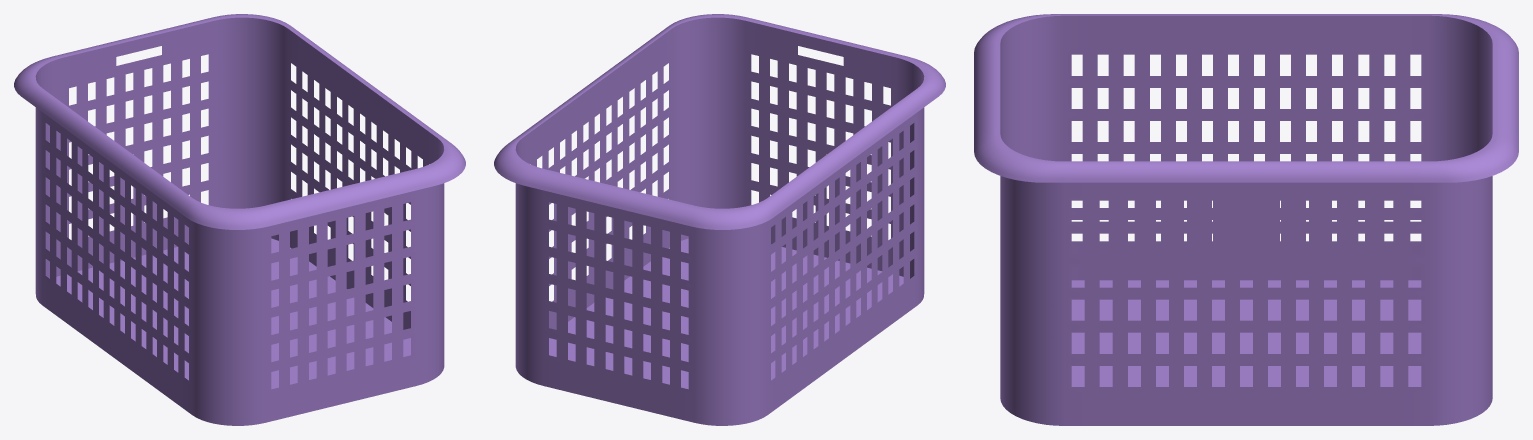
Rendered from basket.obj.
3 views of the same model, side by side, from view 1: azimuth 30°, elevation 25°; view 2: azimuth 150°, elevation 25°; view 3: azimuth 270°, elevation 25° (orthographic). The views are drawn at different scales.
Visible parts, largest first — view 1: Basket; view 2: Basket; view 3: Basket.
Part boxes in pixels (bbox=[...]): Basket: bbox=[14, 14, 465, 425]; Basket: bbox=[494, 14, 945, 425]; Basket: bbox=[974, 14, 1518, 425].
Size of the model in its own units: 2.01 by 1.54 by 2.87.
Materials: 1 (1 with a texture image).
